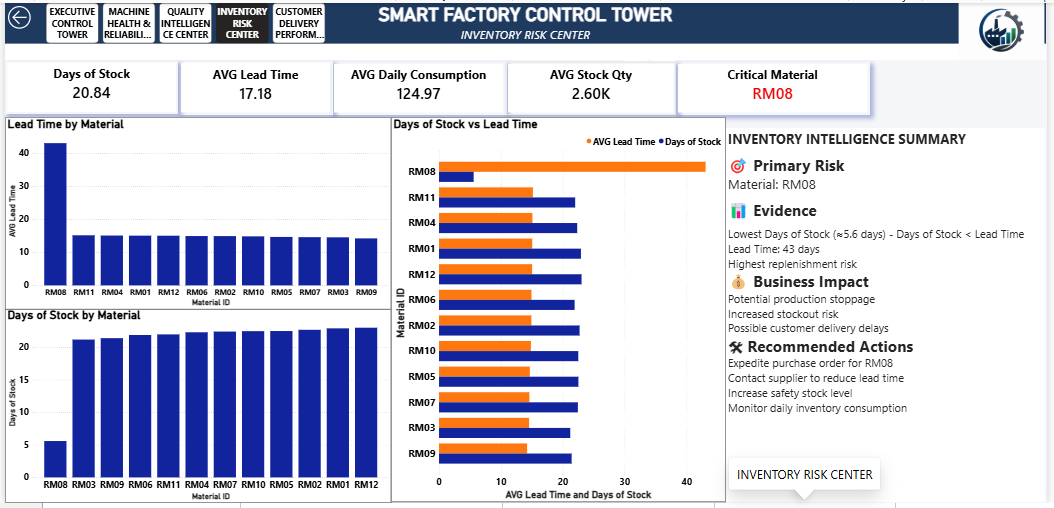

The dashboard page shown, as its layout file describes it:
{"tool":"powerbi","page":{"name":"INVENTORY RISK CENTER   ","canvas":[2537,1218],"ordinal":3},"visuals":[{"type":"cardVisual","fields":{"Data":["Measure.Days of Stock"]},"box":[0,141.6,422.4,129.6],"z":0},{"type":"cardVisual","fields":{"Data":["Measure.Average Lead Time"]},"box":[422.8,141.9,373.7,130.9],"z":1000},{"type":"cardVisual","fields":{"Data":["Measure.AVG Daily Consumtion"]},"box":[796.6,144.6,422.8,128.2],"z":2000},{"type":"cardVisual","fields":{"Data":["Measure.AVG STOCK QTY"]},"box":[1219.4,144.6,414.6,128.2],"z":3000},{"type":"cardVisual","fields":{"Data":["Measure.Most Critical Material"]},"box":[1634,144.6,471.9,128.2],"z":4000},{"type":"textbox","title":"SMART FACTORY CONTROL TOWER","box":[0,0,2535.9,138.9],"z":5000},{"type":"image","box":[2319.1,0,216.8,138.9],"z":6000},{"type":"actionButton","box":[0,0,115,70],"z":7000},{"type":"clusteredColumnChart","title":"Days of Stock by Material","fields":{"Category":["FACT_Inventory.Material ID"],"Y":["Measure.Days of Stock"]},"box":[0,742,941.1,474.7],"z":8000},{"type":"clusteredColumnChart","title":"Lead Time by Material","fields":{"Category":["FACT_Inventory.Material ID"],"Y":["Measure.AVG Lead Time"]},"box":[0,278.3,941.1,469.2],"z":9000},{"type":"clusteredBarChart","title":"Days of Stock vs Lead Time","fields":{"Category":["FACT_Inventory.Material ID"],"Y":["Measure.AVG Lead Time","Measure.Days of Stock"]},"box":[941.1,278.3,815.7,938.4],"z":10000},{"type":"textbox","box":[1756.8,305.5,777.5,911.1],"z":11000},{"type":"pageNavigator","box":[100.9,0,682,98.2],"z":12000}]}

Visuals, with their boxes in screenshot pixels (x1, y1, x2, y2), scaled from the page's 2537x1218 canvas onto the 1054x508 screenshot:
cardVisual - Measure.Days of Stock: <region>0, 59, 175, 113</region>
cardVisual - Measure.Average Lead Time: <region>176, 59, 331, 114</region>
cardVisual - Measure.AVG Daily Consumtion: <region>331, 60, 507, 114</region>
cardVisual - Measure.AVG STOCK QTY: <region>507, 60, 679, 114</region>
cardVisual - Measure.Most Critical Material: <region>679, 60, 875, 114</region>
"SMART FACTORY CONTROL TOWER" textbox: <region>0, 0, 1053, 58</region>
image: <region>963, 0, 1053, 58</region>
actionButton: <region>0, 0, 48, 29</region>
"Days of Stock by Material" clusteredColumnChart: <region>0, 309, 391, 507</region>
"Lead Time by Material" clusteredColumnChart: <region>0, 116, 391, 312</region>
"Days of Stock vs Lead Time" clusteredBarChart: <region>391, 116, 730, 507</region>
textbox: <region>730, 127, 1053, 507</region>
pageNavigator: <region>42, 0, 325, 41</region>
